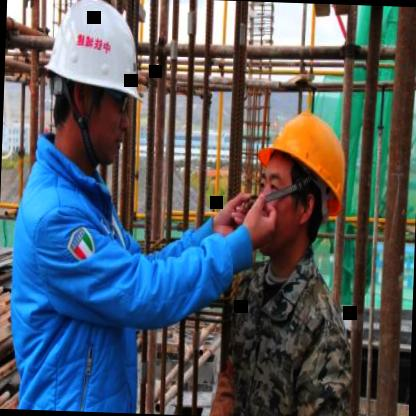helmet: (236, 105, 358, 264), (40, 0, 141, 171)
